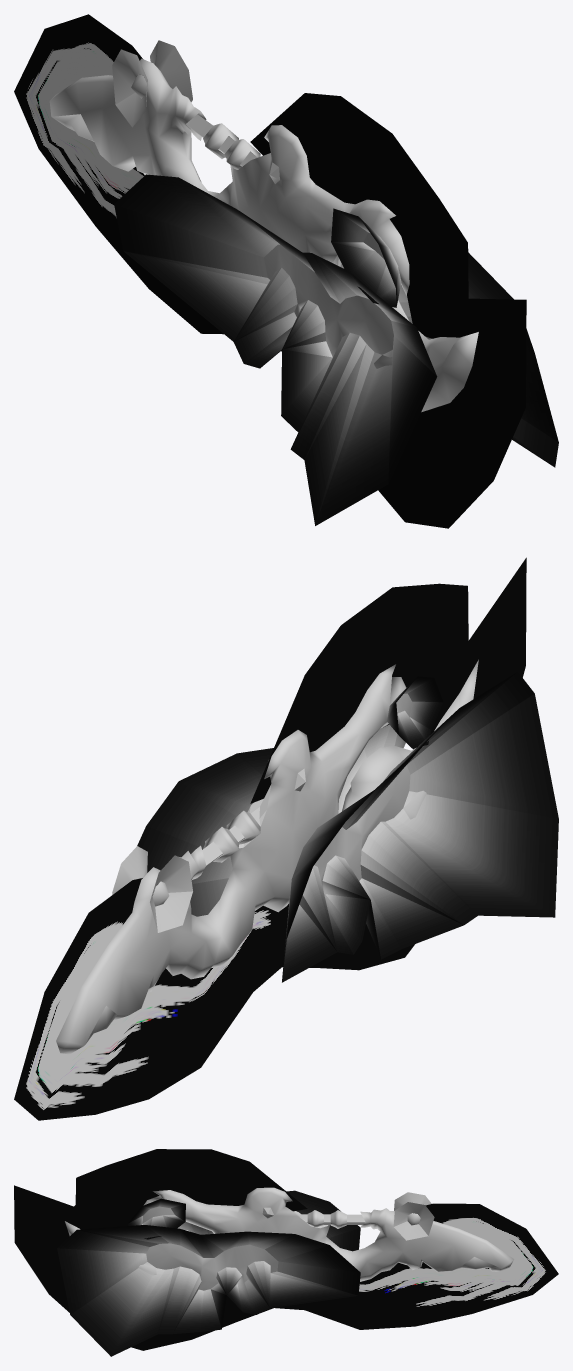
Rendered from zhufudatianshijueduimozhang.FBX.
3 views of the same model, one above another, from view 1: azimuth 30°, elevation 25°; view 2: azimuth 150°, elevation 25°; view 3: azimuth 270°, elevation 25° (orthographic). The views are drawn at different scales.
Visible parts, largest first — view 1: zhufudatianshijueduimozhang; view 2: zhufudatianshijueduimozhang; view 3: zhufudatianshijueduimozhang.
Boxes of the visible parts, <box> form: zhufudatianshijueduimozhang: <box>14,14,558,528</box>; zhufudatianshijueduimozhang: <box>14,557,558,1120</box>; zhufudatianshijueduimozhang: <box>14,1149,558,1356</box>.
Size of the model in its own units: 216 by 327 by 800.
